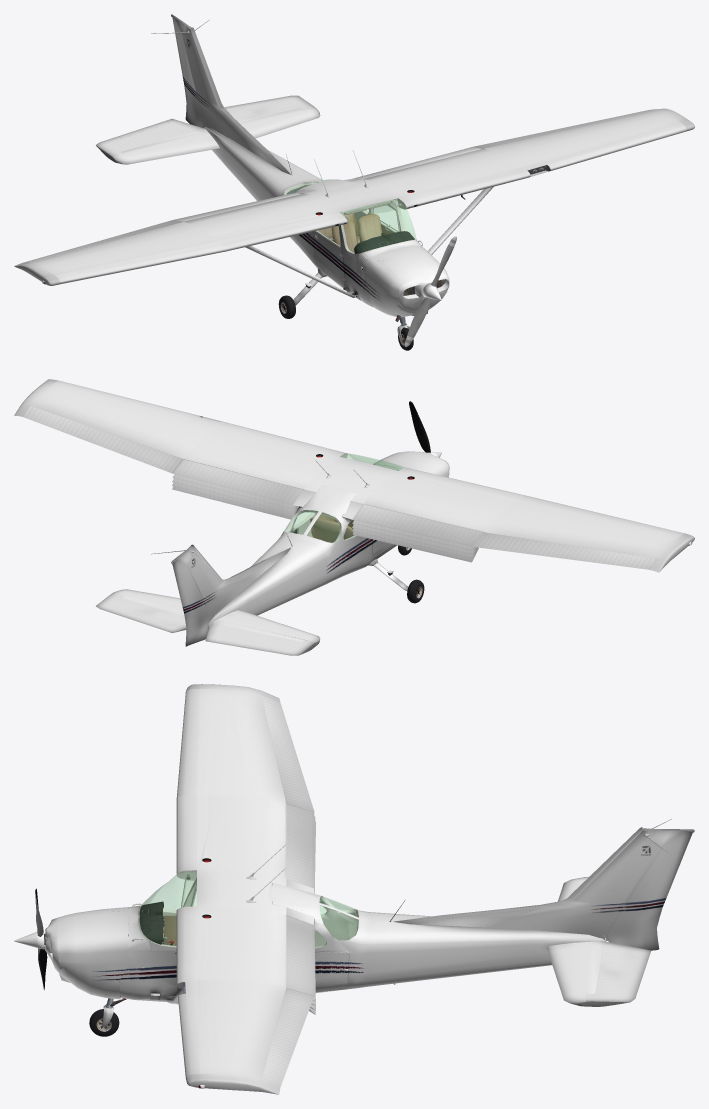
The model's file is custom_callsign_1.gltf.
The picture shows the model from 3 angles, top to bottom: view 1: azimuth 30°, elevation 25°; view 2: azimuth 150°, elevation 25°; view 3: azimuth 270°, elevation 25°; orthographic projection. The views are drawn at different scales.
Visible parts, largest first — view 1: Exterior, Pose_flaps_0; view 2: Exterior, Pose_flaps_0, Pose_flaps_1, Pose_flaps_2, Pose_flaps_3, Pose_flaps_4; view 3: Exterior, Pose_flaps_0.
Part boxes in pixels (x1=…): Exterior: x1=14, y1=14, x2=694, y2=350; Pose_flaps_0: x1=173, y1=147, x2=482, y2=221; Exterior: x1=14, y1=379, x2=694, y2=655; Pose_flaps_0: x1=173, y1=459, x2=483, y2=546; Pose_flaps_1: x1=172, y1=474, x2=474, y2=550; Pose_flaps_2: x1=172, y1=478, x2=476, y2=554; Pose_flaps_3: x1=172, y1=482, x2=477, y2=558; Pose_flaps_4: x1=172, y1=486, x2=478, y2=562; Exterior: x1=14, y1=684, x2=694, y2=1094; Pose_flaps_0: x1=286, y1=803, x2=314, y2=995.
Size of the model in its own units: 11.32 by 2.77 by 8.17.
145 materials, 135 textured.
